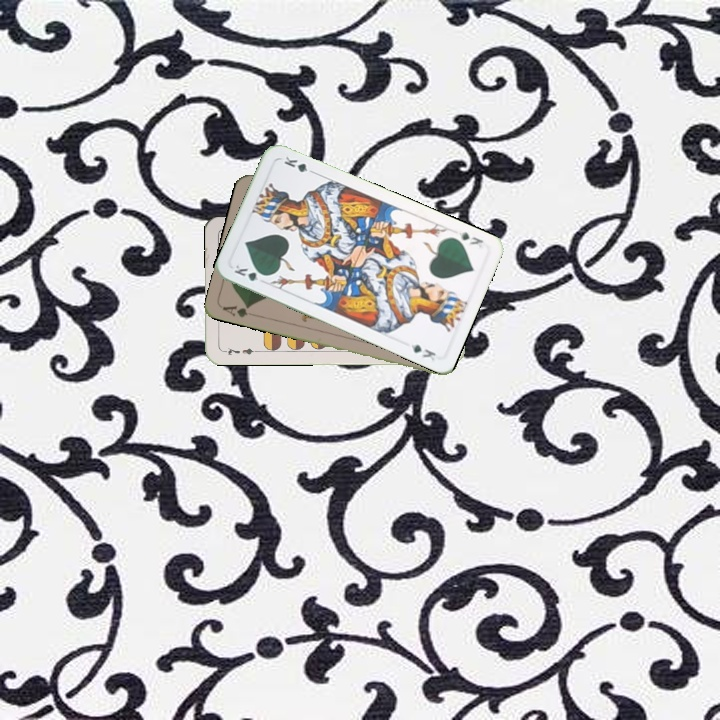E7: (220, 343, 260, 358)
GA: (218, 301, 253, 320)
GK: (230, 261, 270, 284), (455, 228, 486, 251)
